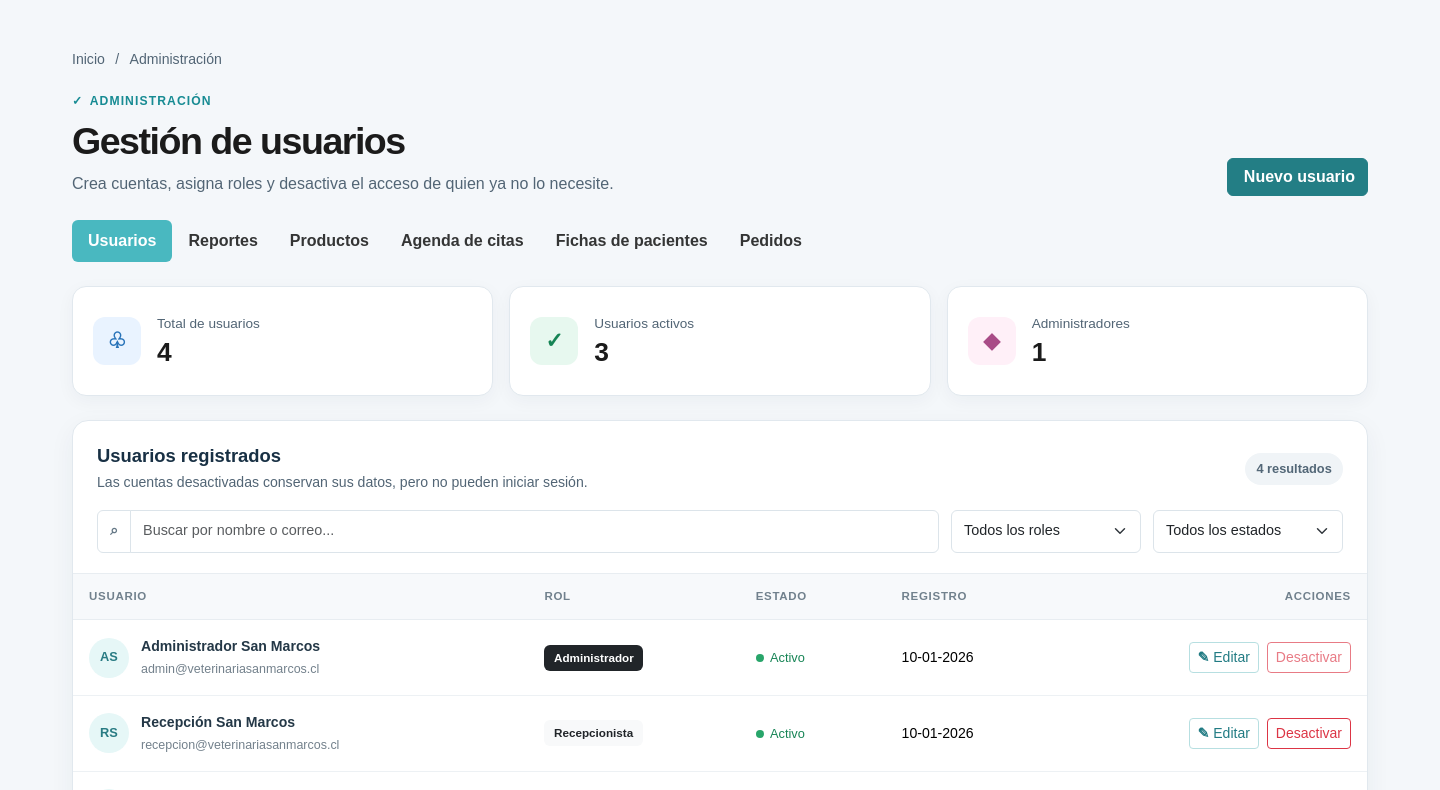
Test: Usuarios (administración) › si ms-auth rechaza la cuenta (correo repetido), muestra el motivo y deja el formulario abierto
Click the button "Nuevo usuario". click: point(1297, 177)
box: [1227,158,1368,196]
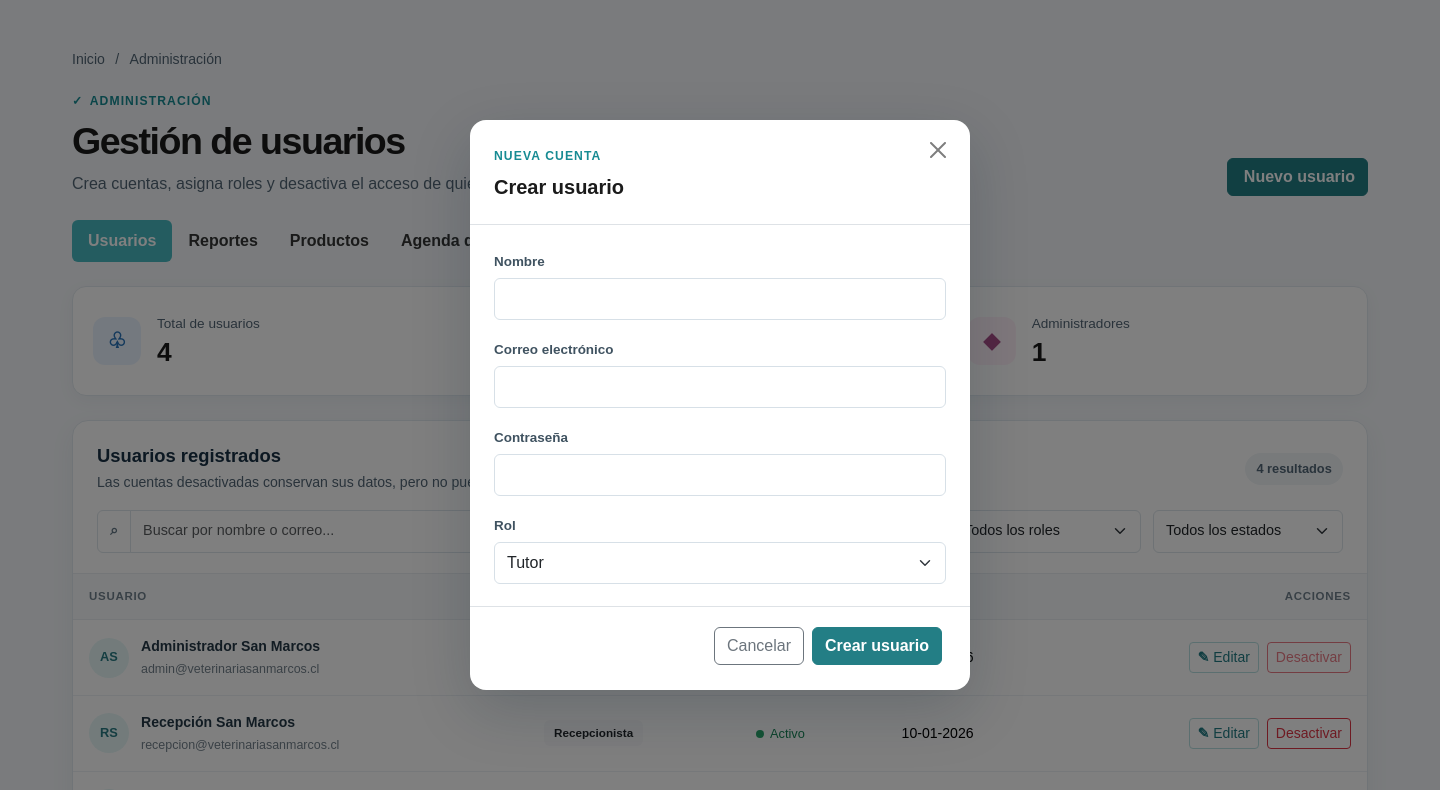
Type "Camila Dos" into the field labelled "Nombre". click: point(720, 299)
box: [494,278,946,320]
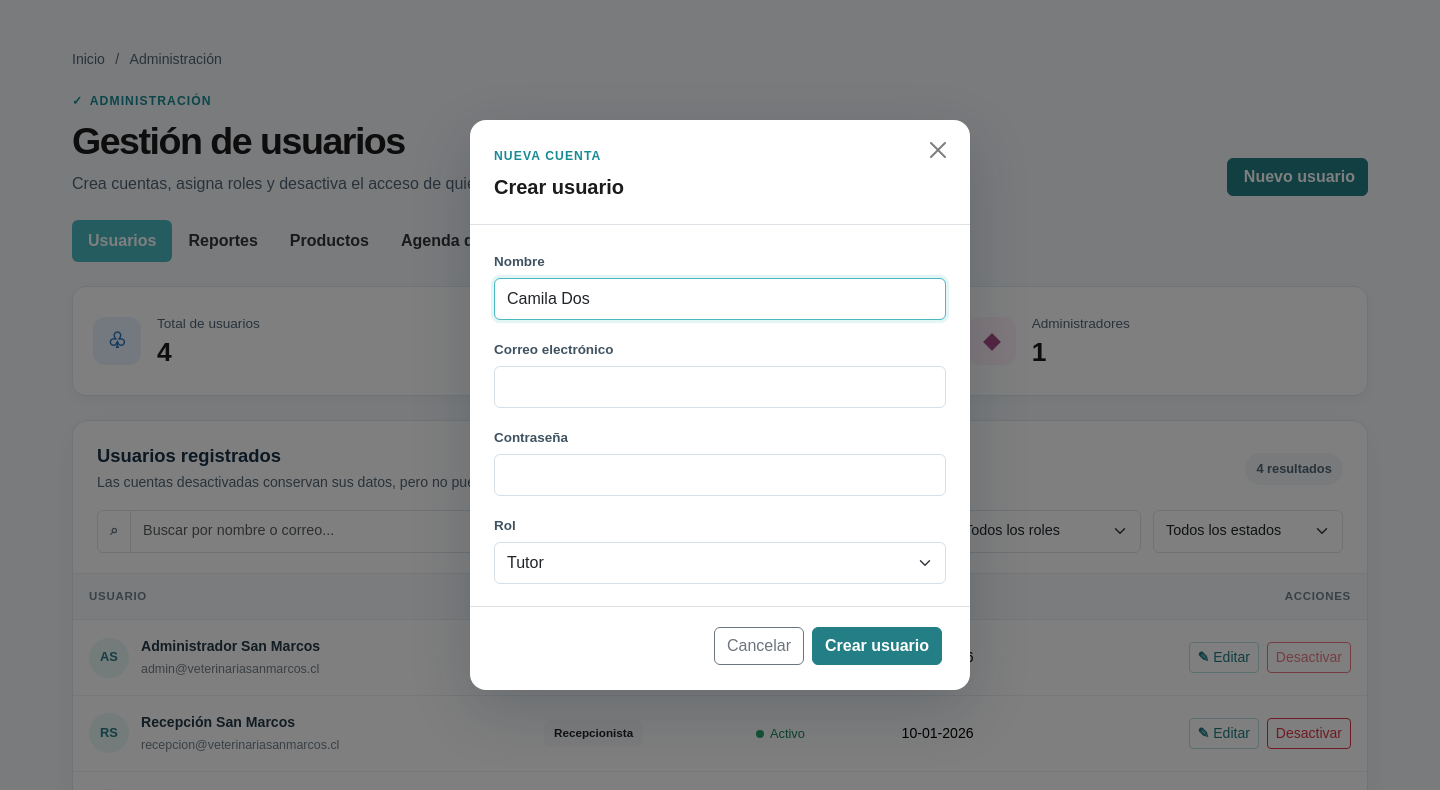
Type "camila@example.cl" into the field labelled "Correo electrónico". click: point(720, 387)
box: [494,366,946,408]
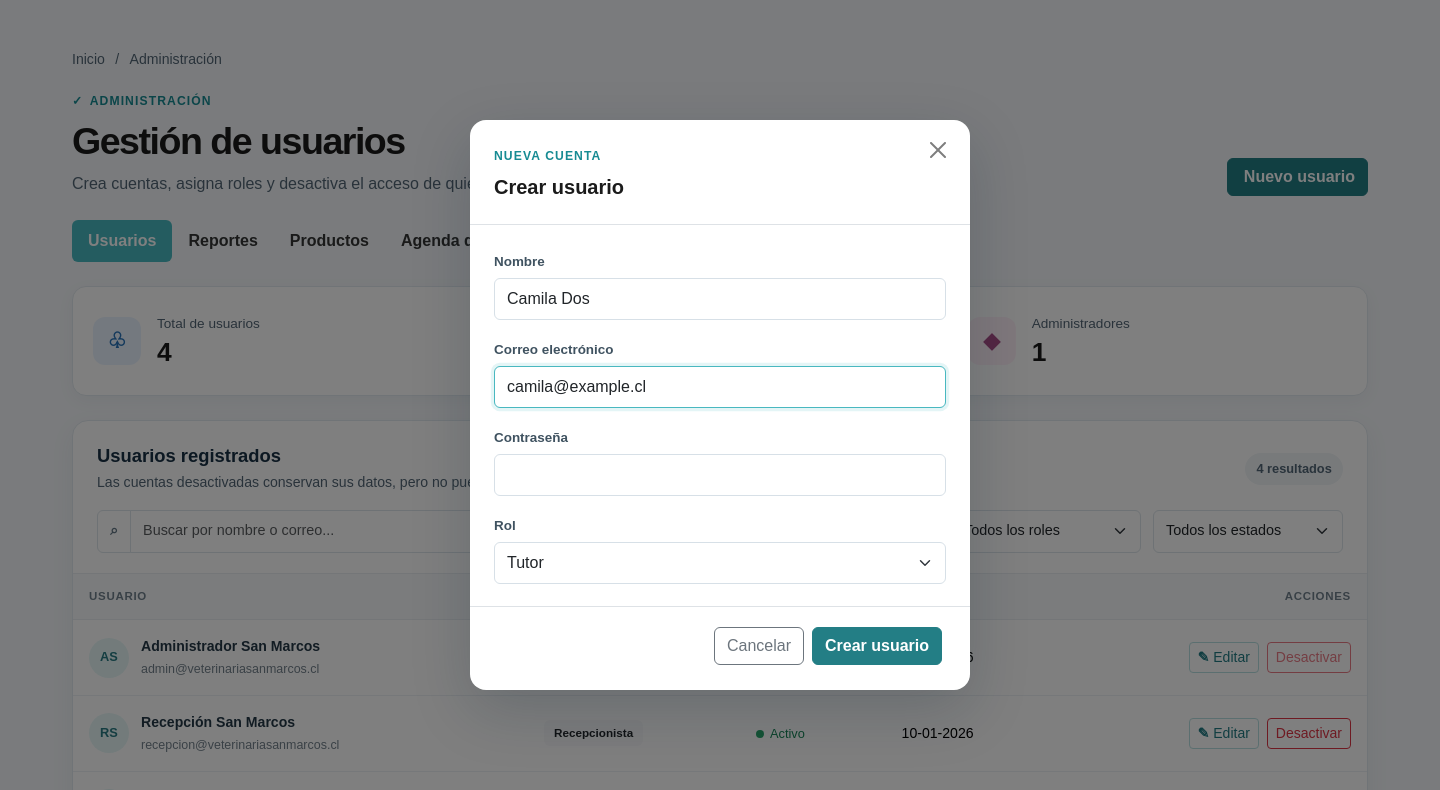
Type "secreta1" into the password field labelled "Contraseña". click: point(720, 475)
box: [494,454,946,496]
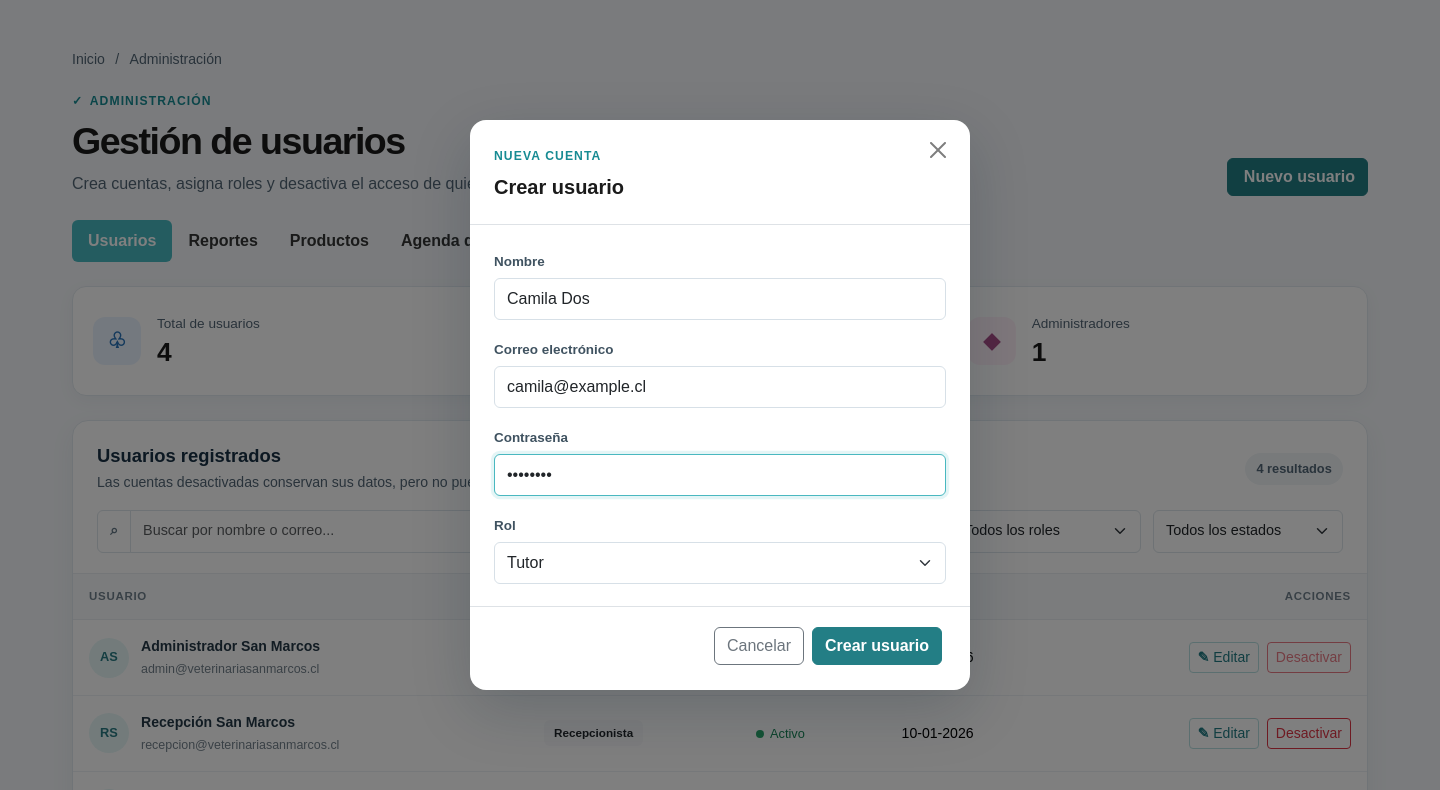
Click the button "Crear usuario". click: point(877, 646)
box: [812,627,942,665]
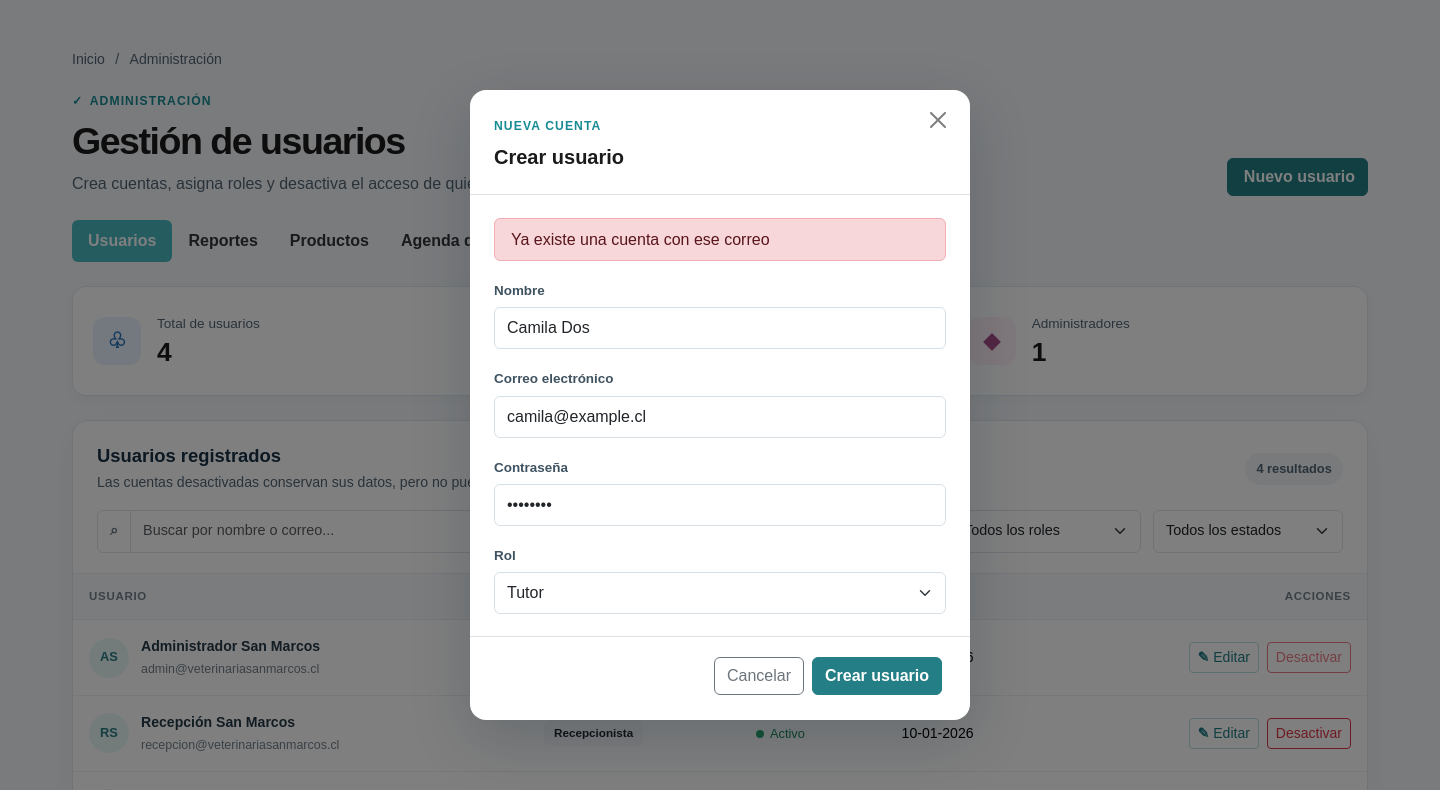
Check: the heading "Crear usuario" is shown, box [494,142,624,172]
Check: the text "Ya existe una cuenta con ese correo" is shown, box [494,218,946,261]
